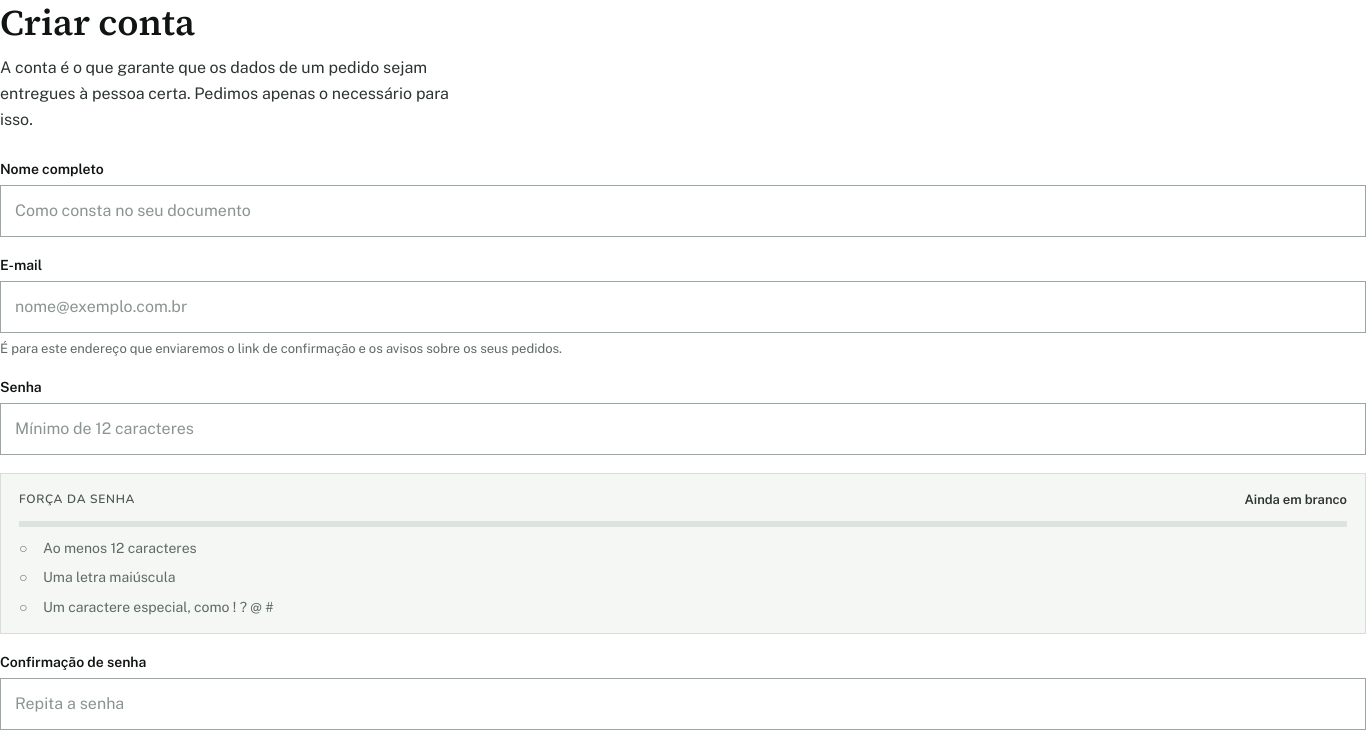
Test case: RegisterForm › mostra a recusa do servidor, campo a campo quando ele a detalha
In the field labelled "Nome completo": (683, 211) [0,185,1365,237], type "Marina Torres de Almeida"
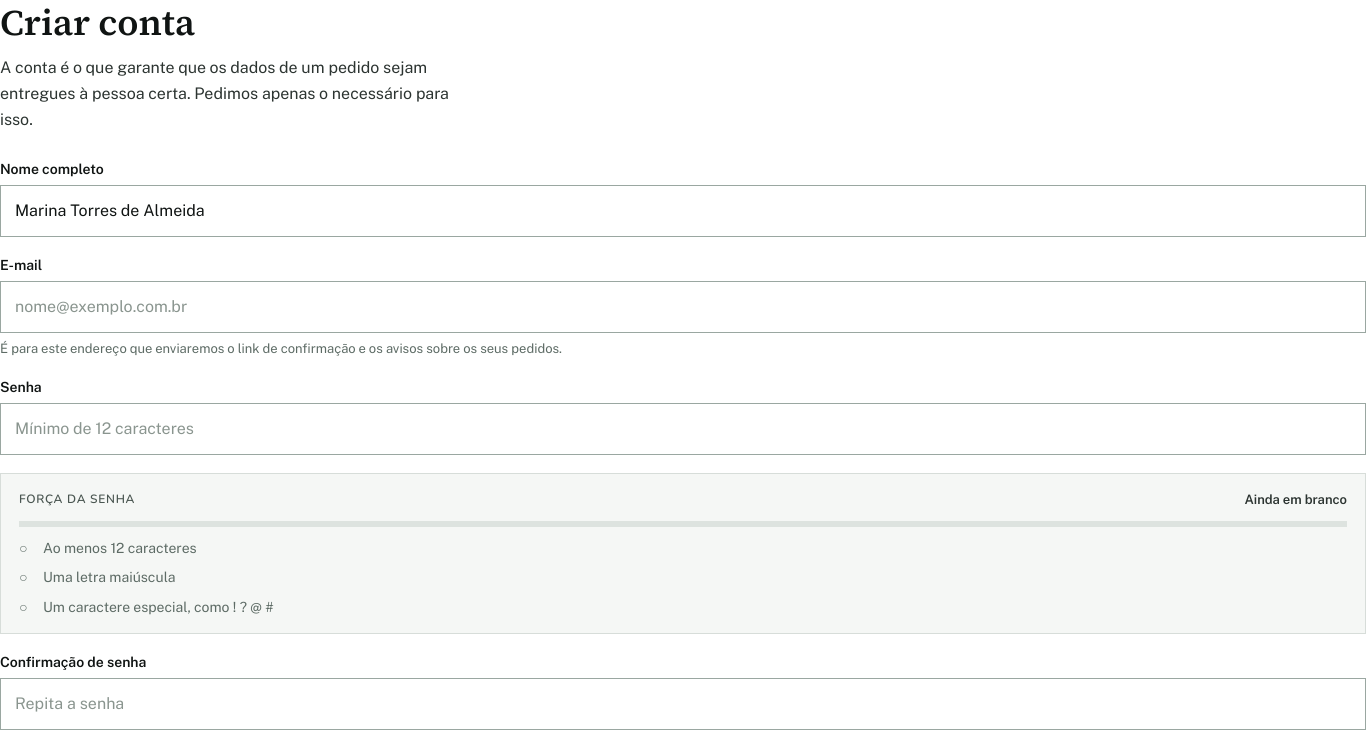
In the field labelled "E-mail": (683, 307) [0,281,1365,333], type "marina@exemplo.com.br"
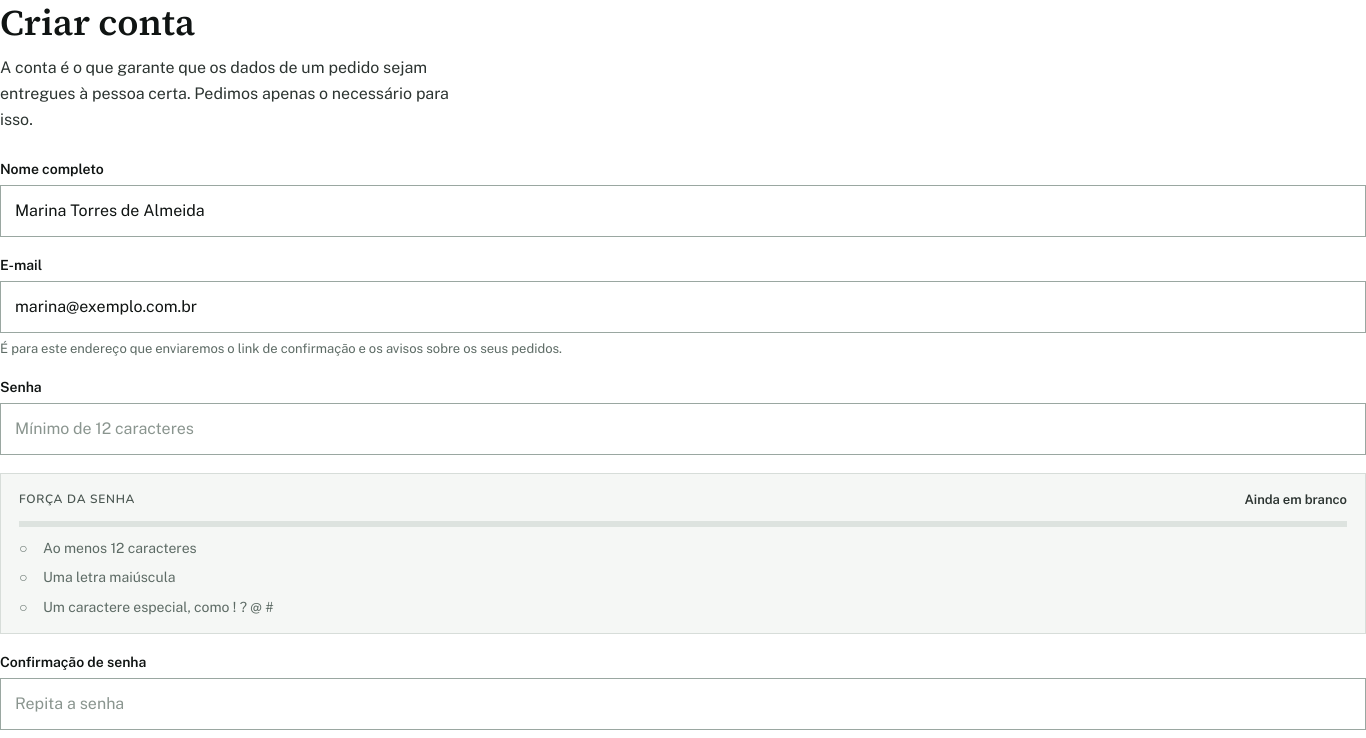
In the password field labelled "Senha": (683, 428) [0,402,1365,454], type "SenhaSegura!123"
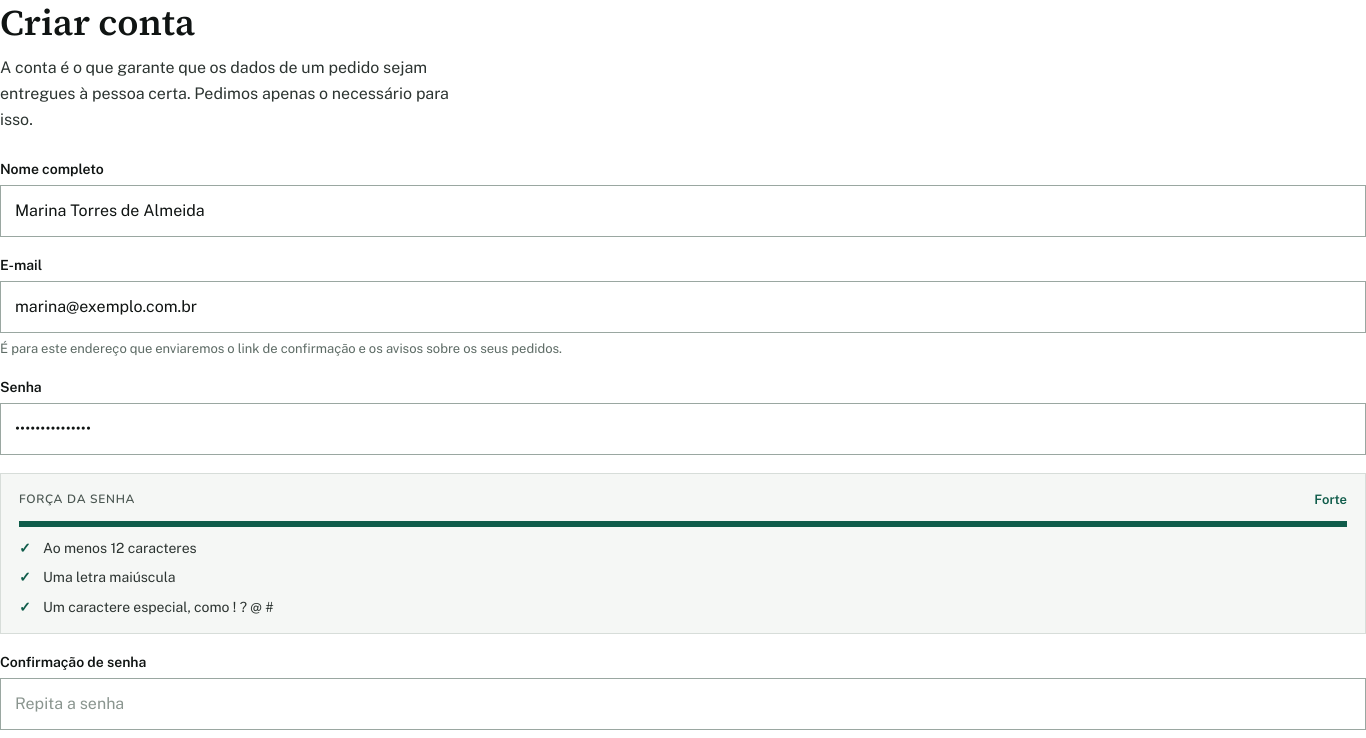
In the password field labelled "Confirmação de senha": (683, 704) [0,678,1365,730], type "SenhaSegura!123"
(page scrolled)
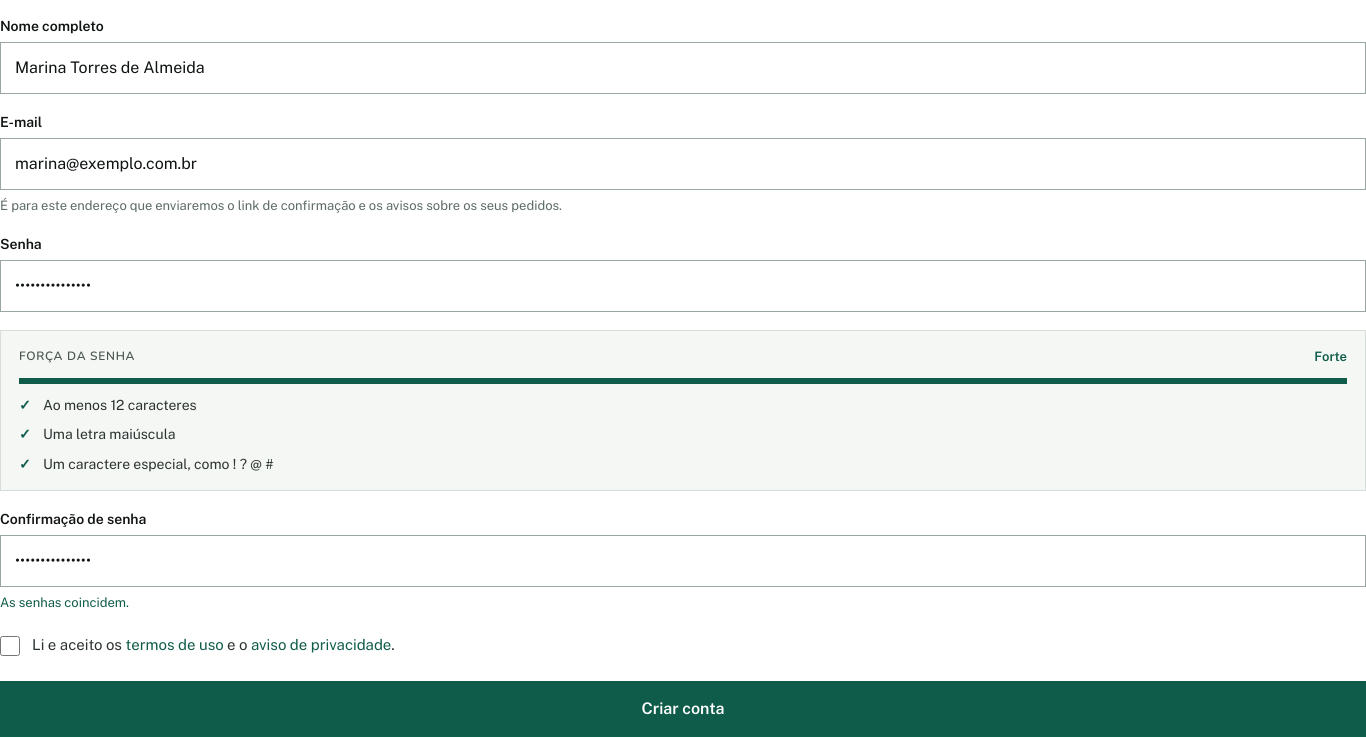
Click the checkbox labelled "Li e aceito os termos de uso e o aviso de privacidade.": (10, 646) [0,636,20,656]
(page scrolled)
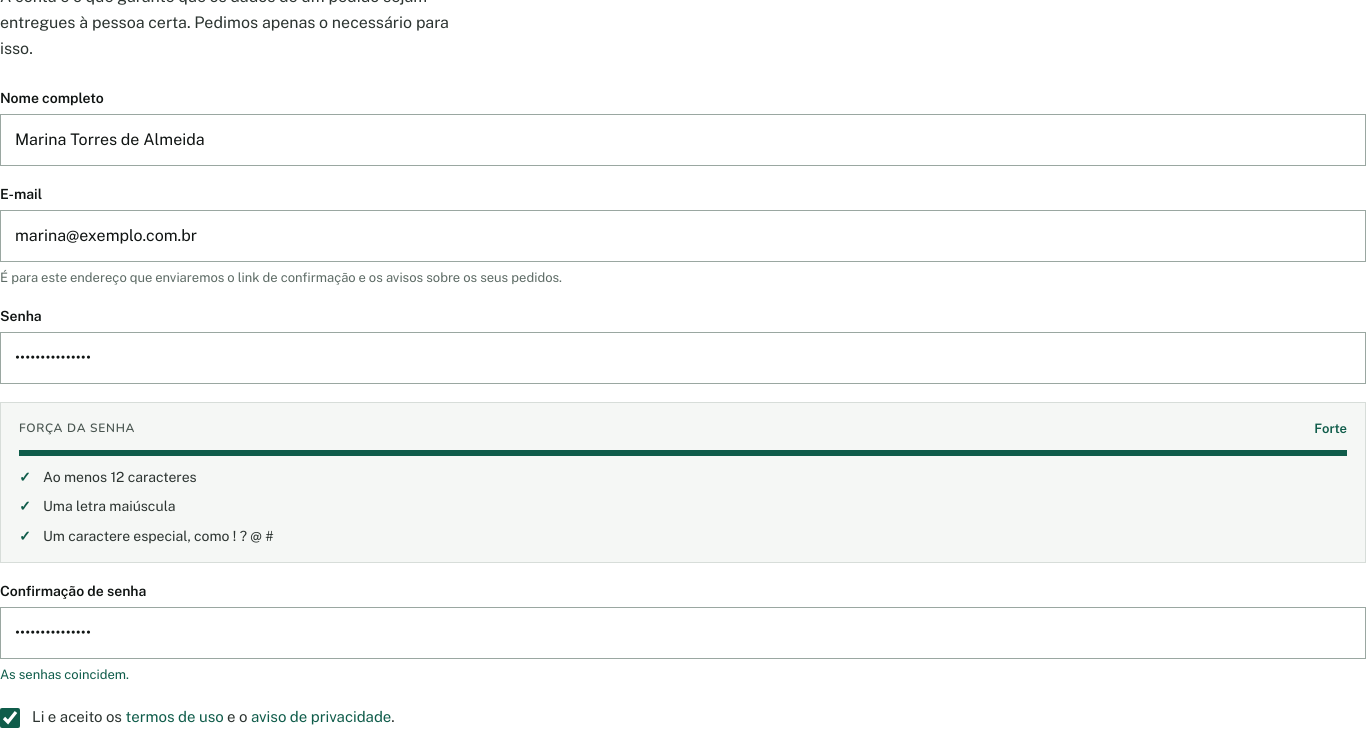
Submit the form
(page scrolled)
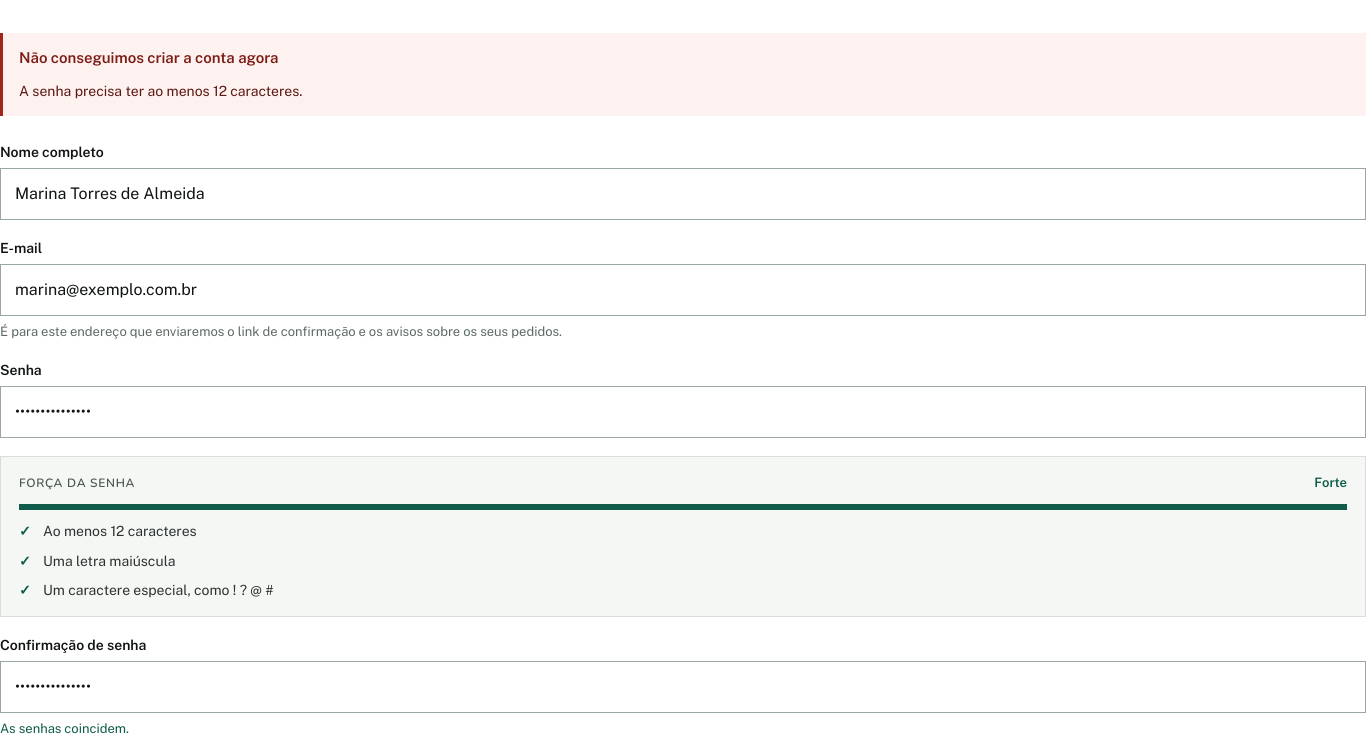
Now the form shows "A senha precisa ter ao menos 12 caracteres.", box [19,82,302,98]
